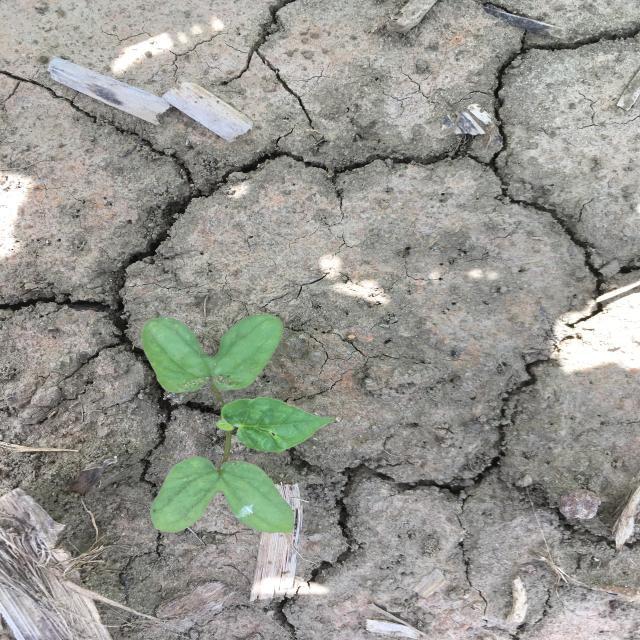MorningGlory: (141, 314, 336, 534)
